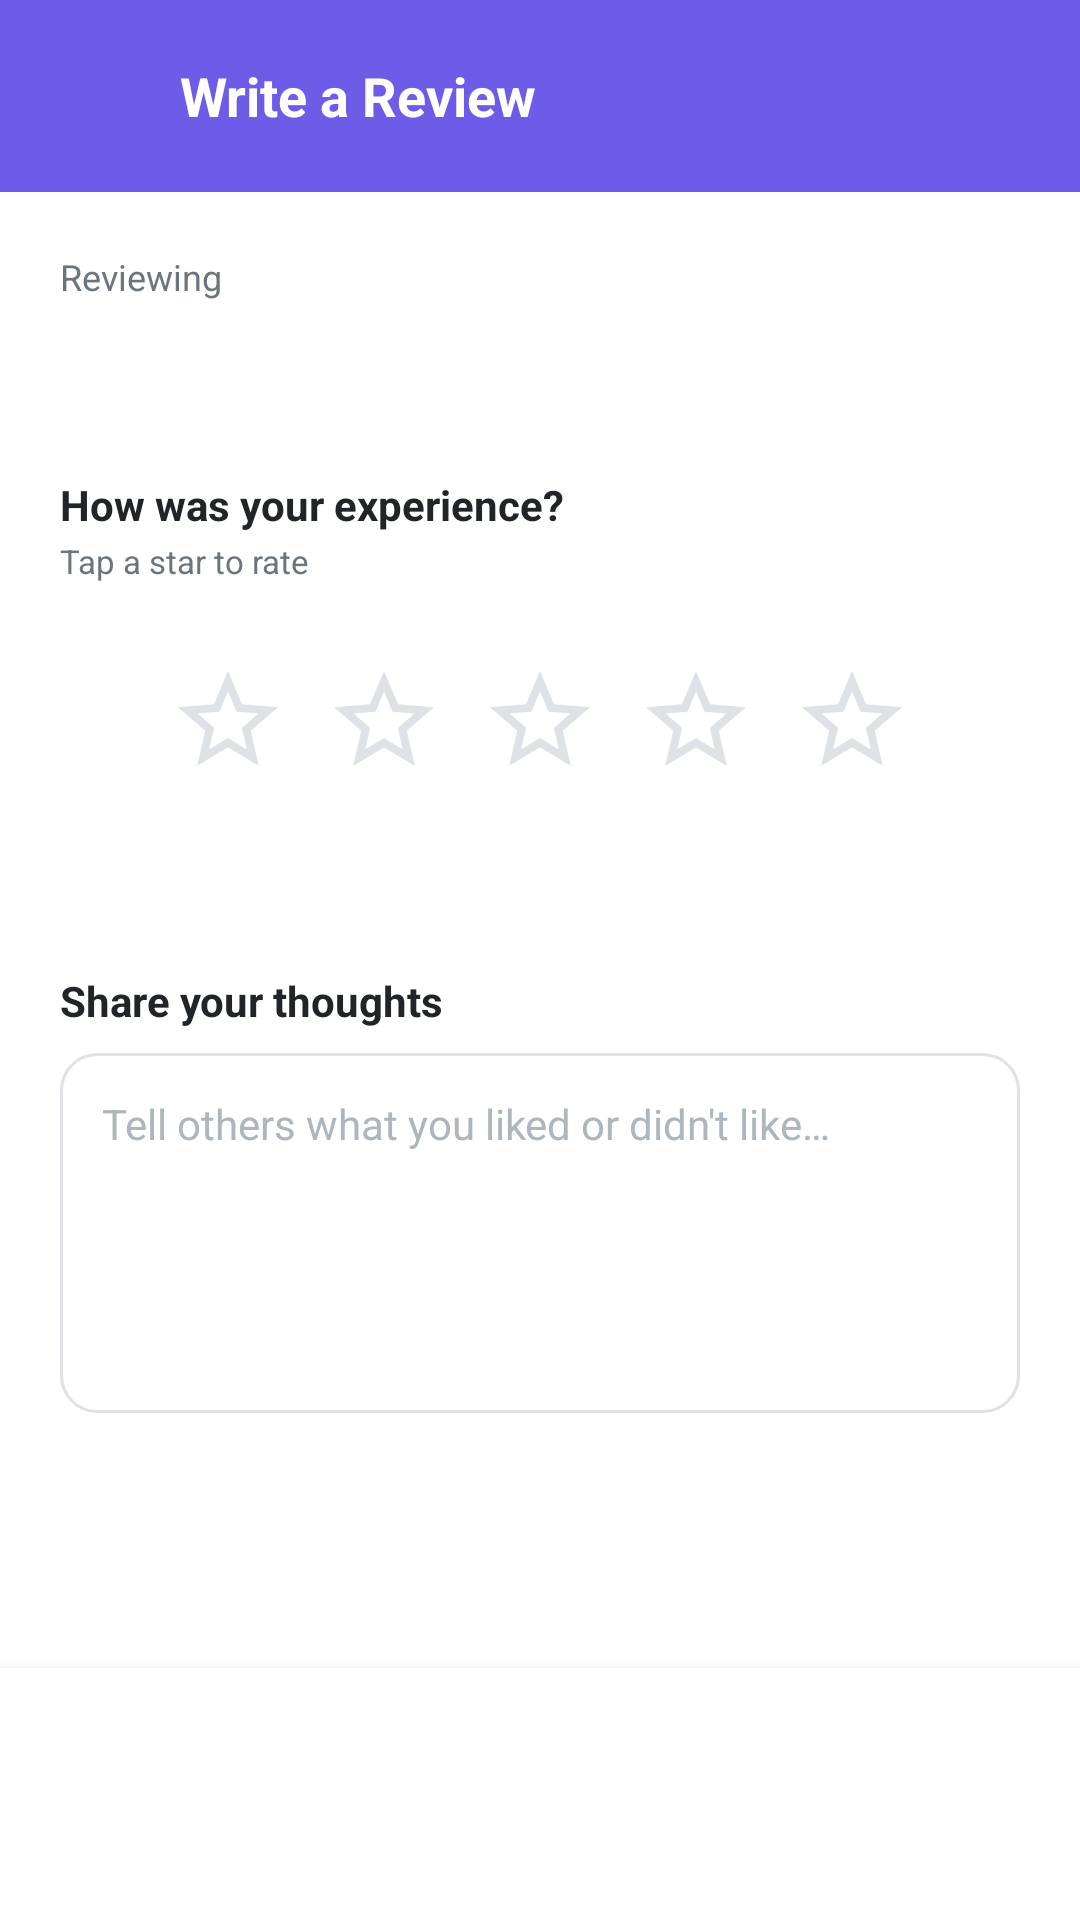

Named icons in this screenshot (1080*1920) and their centers, [x,y]:
Star 1: [228,719]
Star 2: [384,719]
Star 3: [540,719]
Star 4: [696,719]
Star 5: [852,719]
